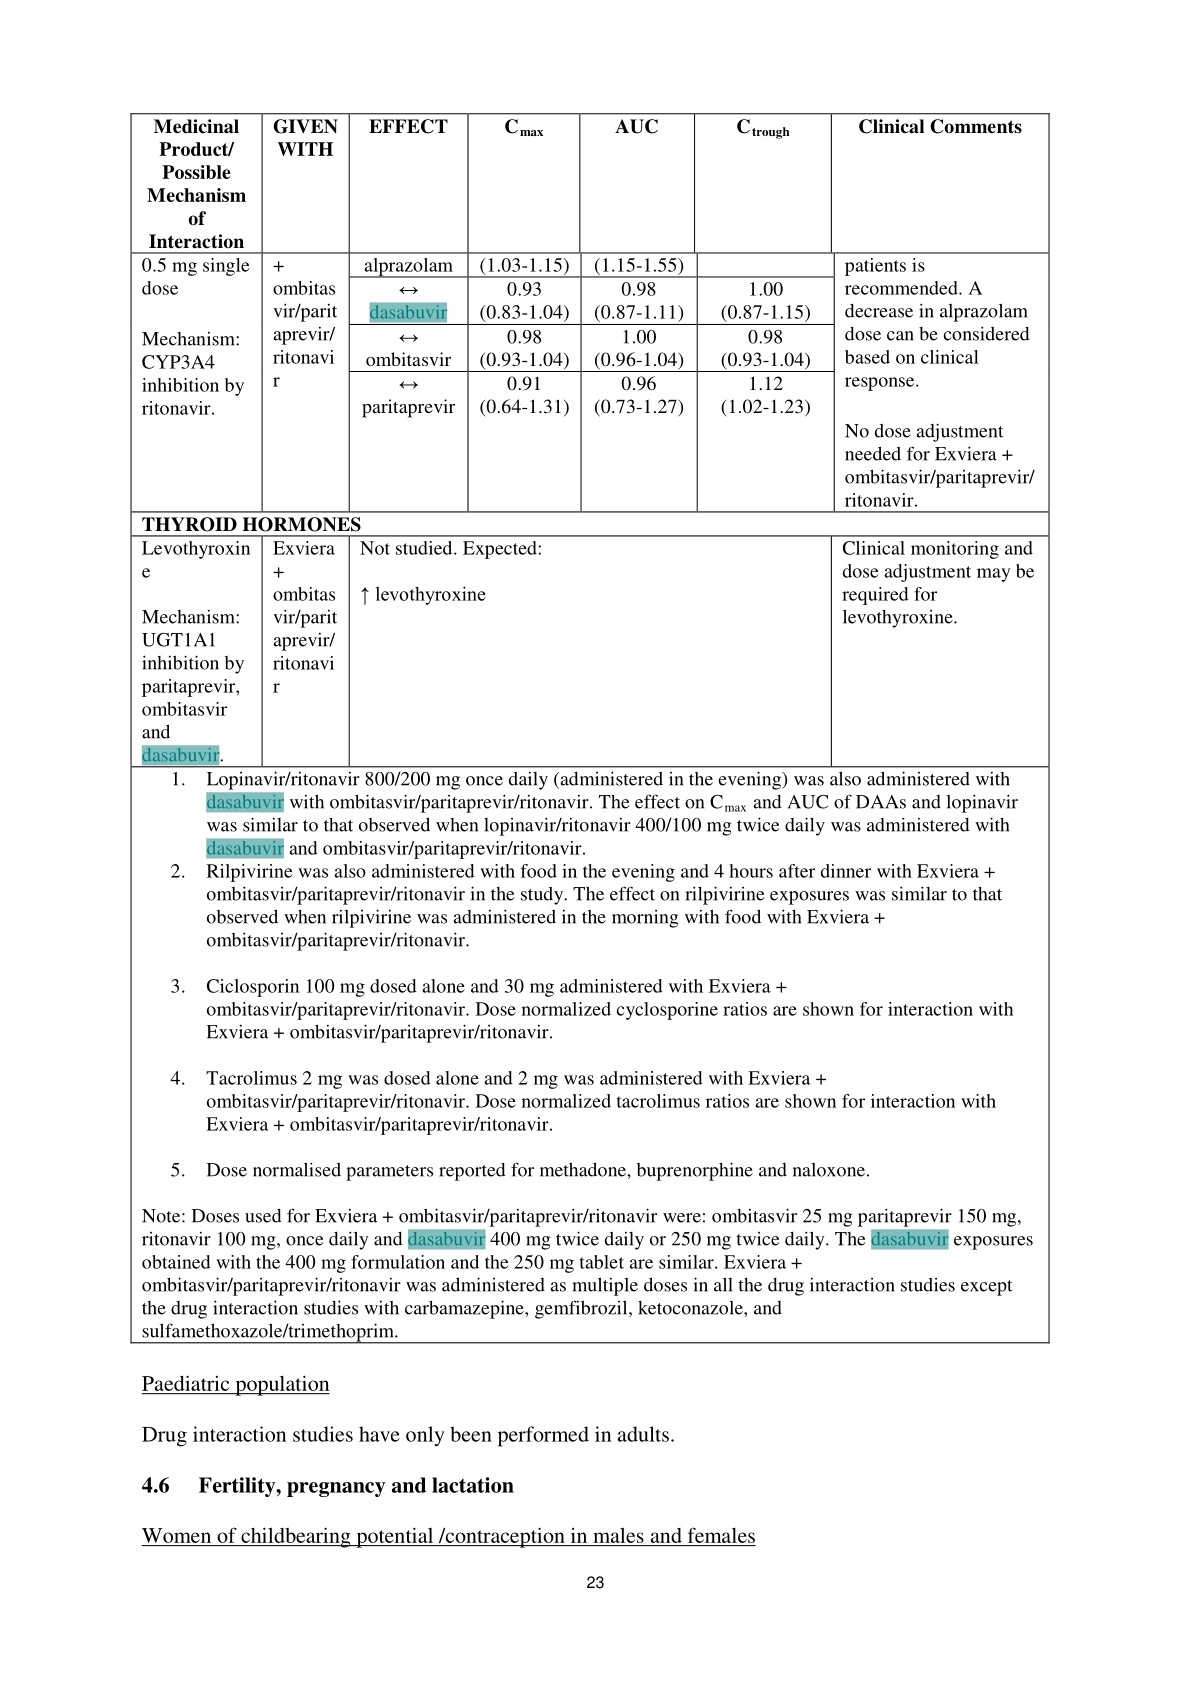merged_cells: (129, 112, 1051, 1344)
